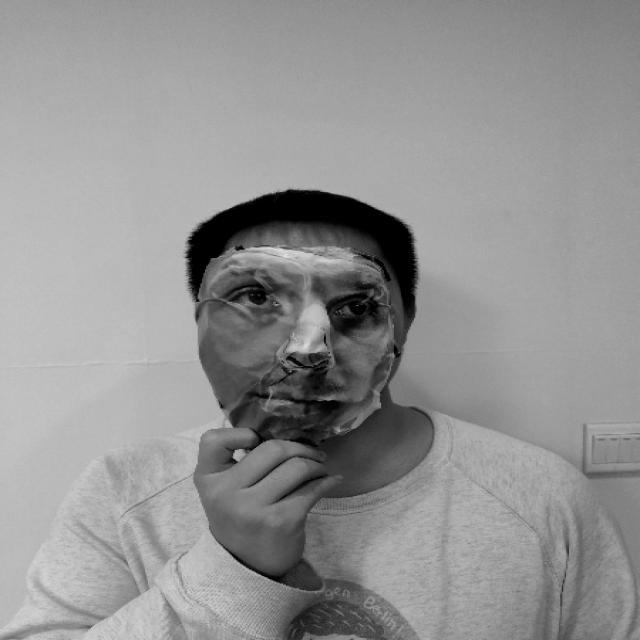fake: (175, 187, 404, 439)
